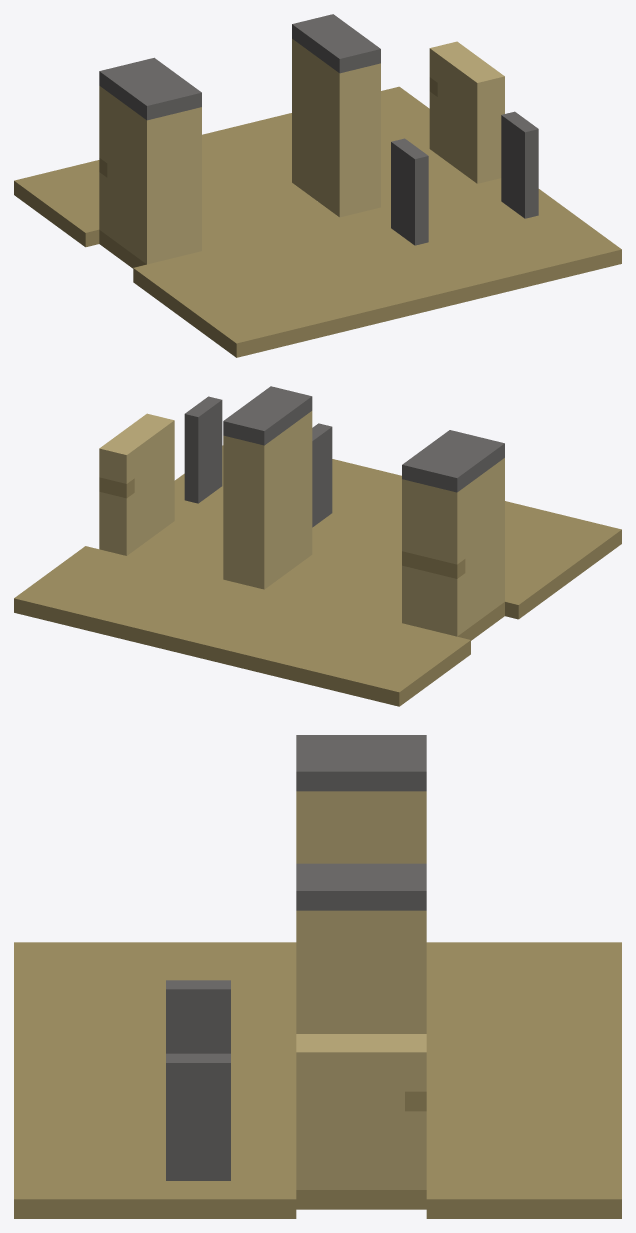
Rendered from weir.glb.
3 views of the same model, one above another, from view 1: azimuth 30°, elevation 25°; view 2: azimuth 150°, elevation 25°; view 3: azimuth 270°, elevation 25° (orthographic). The views are drawn at different scales.
Bounding box in the file's own units: 28 × 12 × 28.
